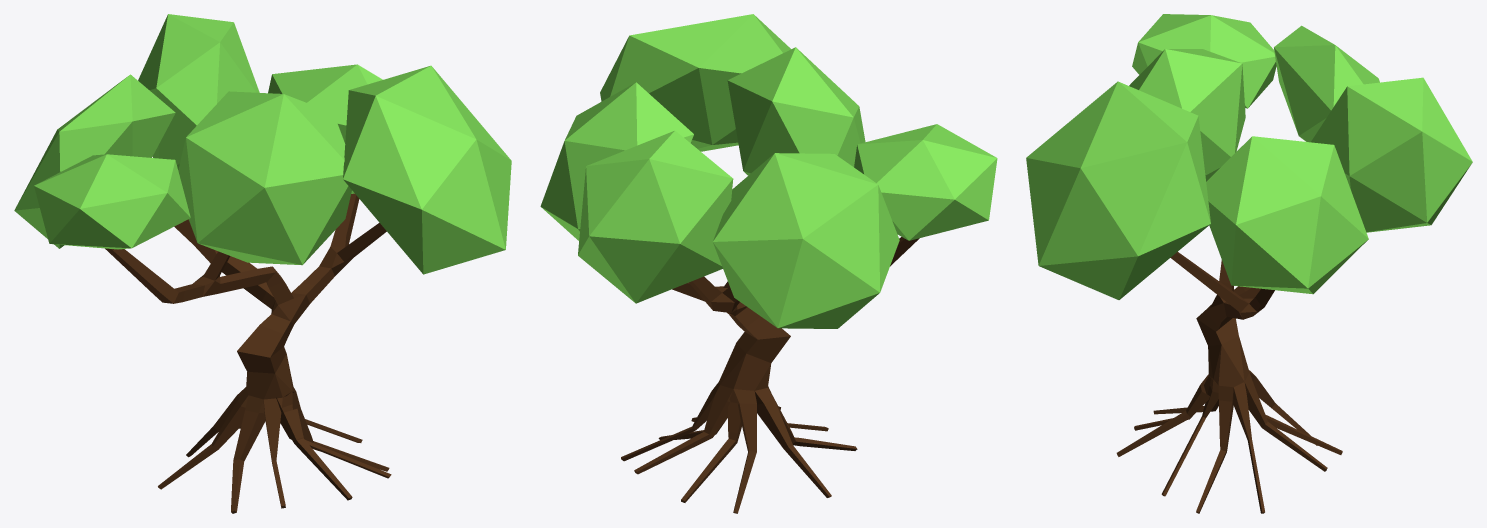
Rendered from mangrove.glb.
3 renders of one model, left to right at view 1: azimuth 30°, elevation 25°; view 2: azimuth 150°, elevation 25°; view 3: azimuth 270°, elevation 25°, orthographic. The views are drawn at different scales.
Visible parts, largest first — view 1: Icosphere.005; view 2: Icosphere.005; view 3: Icosphere.005.
Boxes of the visible parts, x1=… form: Icosphere.005: x1=14, y1=14, x2=511, y2=513; Icosphere.005: x1=540, y1=14, x2=997, y2=513; Icosphere.005: x1=1026, y1=14, x2=1472, y2=513.
Size of the model in its own units: 14.06 by 13.1 by 13.
